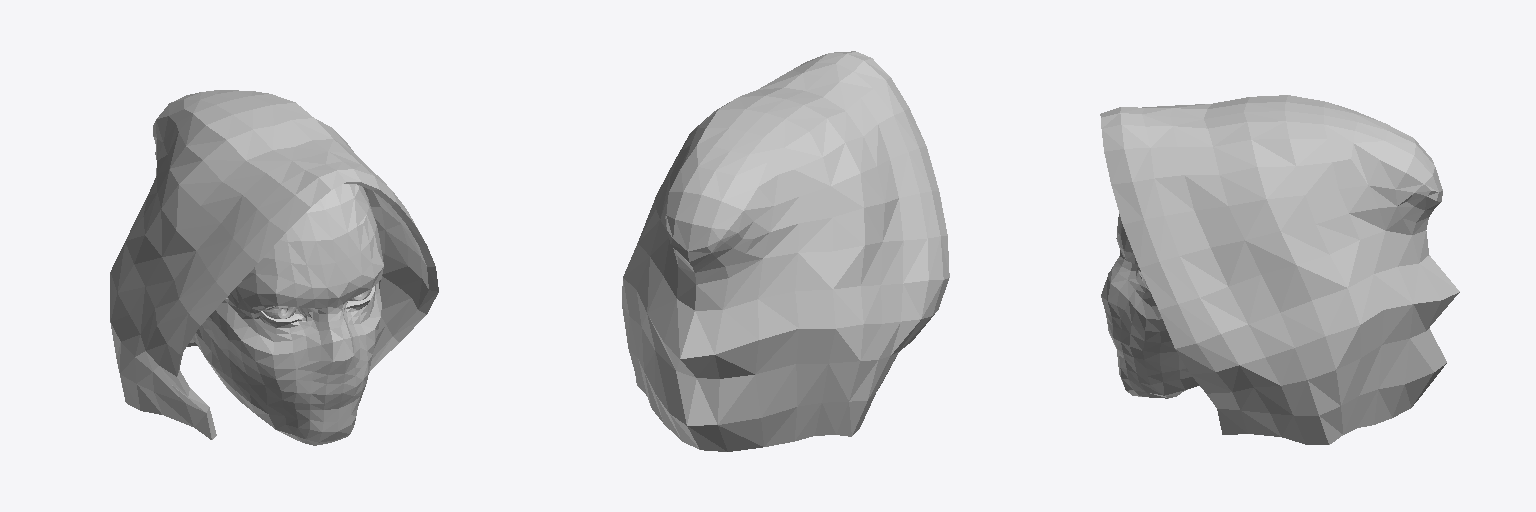
Rendered from headweyes_longcape.obj.
3 views of the same model, side by side, from view 1: azimuth 30°, elevation 25°; view 2: azimuth 150°, elevation 25°; view 3: azimuth 270°, elevation 25° (orthographic).
Visible parts, largest first — view 1: headweyes2; view 2: headweyes2; view 3: headweyes2.
Boxes of the visible parts, <box> form: headweyes2: <box>110,90,438,445</box>; headweyes2: <box>622,51,949,451</box>; headweyes2: <box>1100,95,1459,444</box>.
Size of the model in its own units: 8.71 by 9.11 by 10.27.